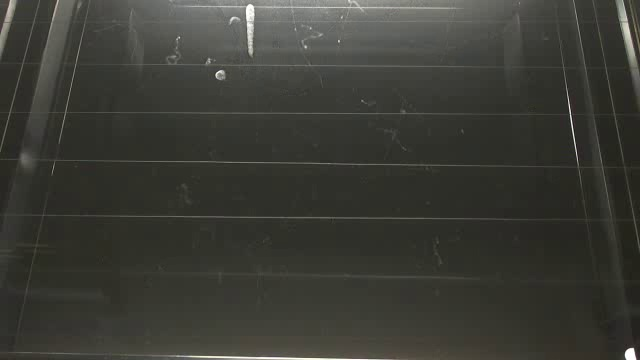Alfa: (243, 3, 258, 59), (213, 69, 226, 82)
